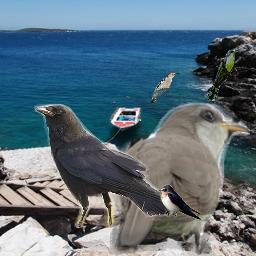Crow: (34, 104, 177, 228)
Cuckoo: (110, 102, 250, 255), (207, 50, 238, 101)
Swallow: (158, 184, 202, 221)
Woodpecker: (150, 72, 180, 104)
